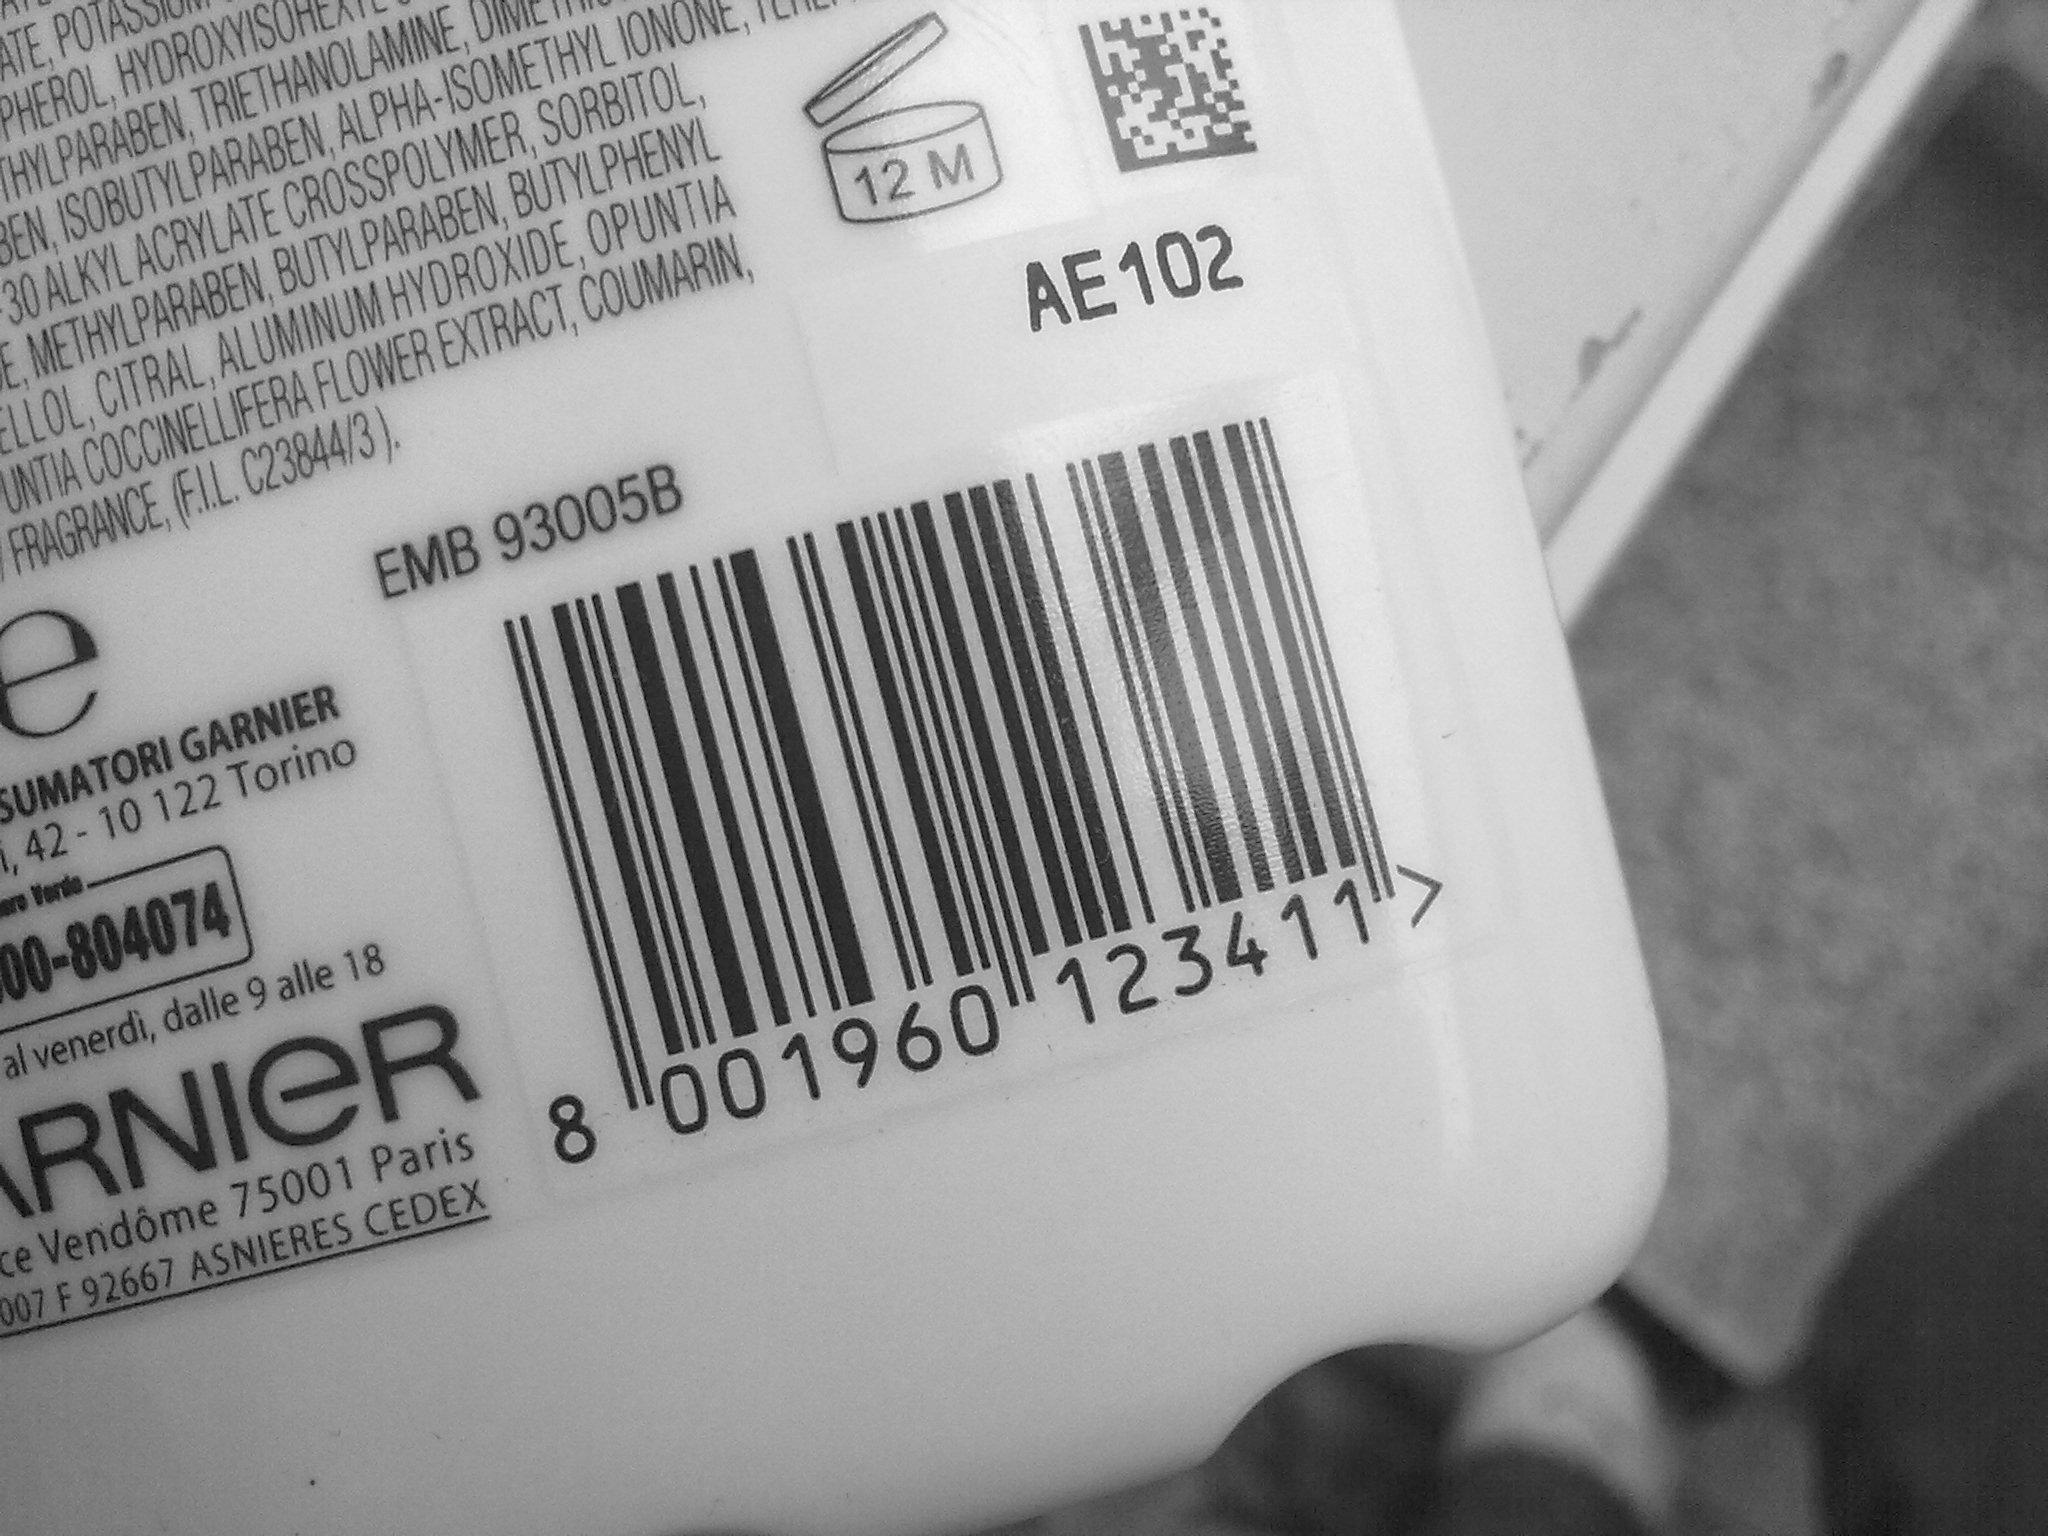Barcode: (435, 488, 1474, 1073)
